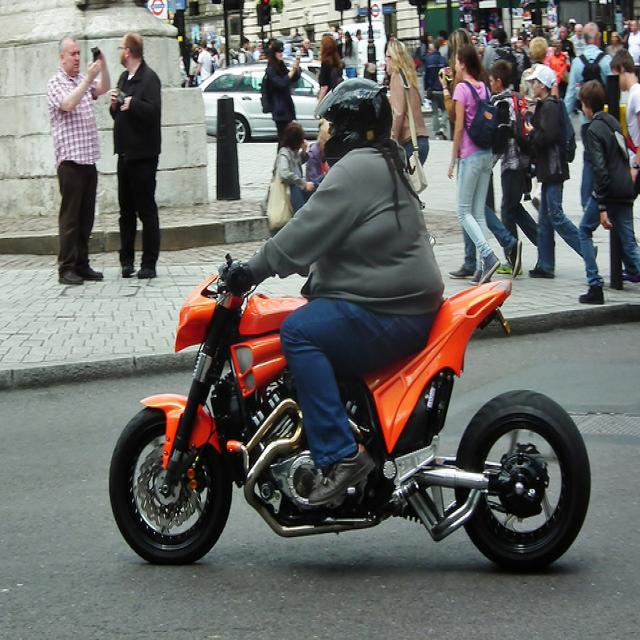motor: (102, 249, 602, 577)
